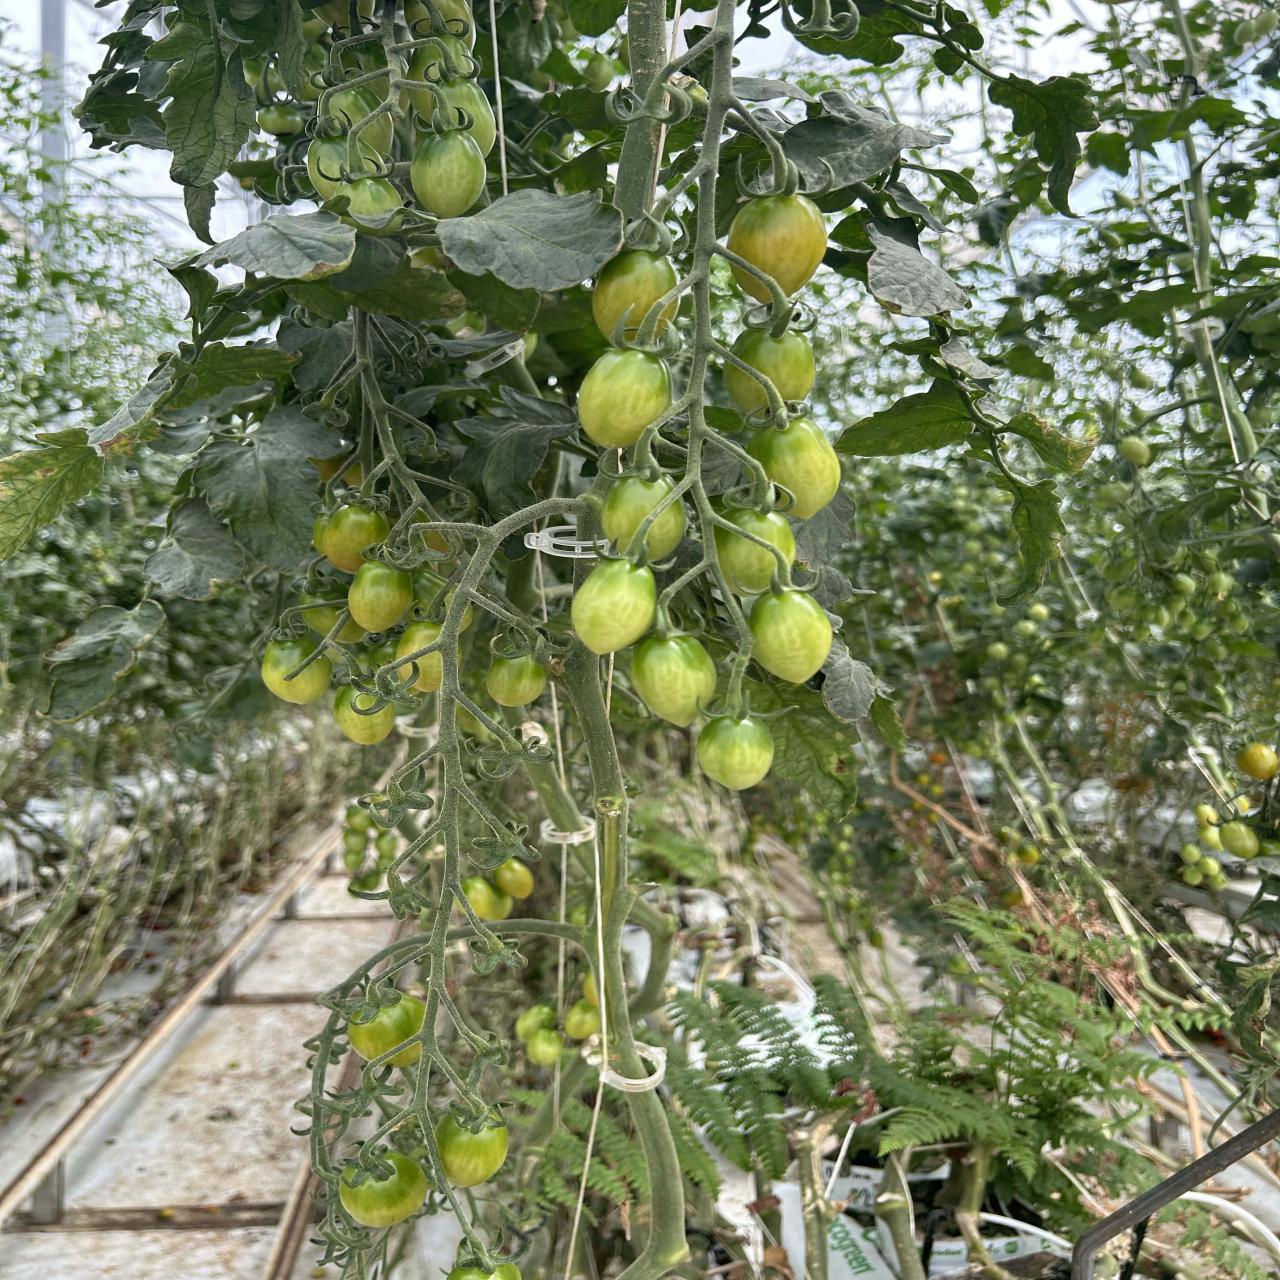Flor rugoso: (462, 790, 538, 870), (359, 756, 433, 828), (470, 736, 553, 779), (354, 667, 428, 715), (469, 925, 527, 974)
Hoja rugoso: (0, 342, 298, 558), (193, 404, 341, 570), (157, 0, 256, 239), (436, 190, 622, 291), (450, 386, 576, 517), (781, 93, 941, 193), (284, 233, 461, 320), (747, 682, 858, 819), (989, 75, 1098, 215), (45, 600, 165, 720), (143, 498, 247, 600), (987, 471, 1065, 605), (199, 212, 355, 279), (838, 380, 973, 456), (217, 0, 311, 100), (867, 225, 968, 318), (76, 69, 169, 149), (891, 336, 1000, 393), (447, 270, 544, 332), (1005, 413, 1097, 472), (822, 634, 880, 722), (278, 322, 352, 392), (795, 492, 855, 567), (792, 561, 853, 614), (887, 181, 945, 231), (170, 266, 218, 325), (438, 331, 517, 360), (870, 695, 905, 753), (926, 169, 979, 204), (108, 30, 154, 66), (137, 61, 173, 98)
Pedunculo: (410, 498, 587, 1110), (682, 0, 749, 660), (560, 646, 647, 1078), (629, 1095, 682, 1280), (613, 117, 665, 220), (628, 0, 666, 95)
Tomate Rugoso: (726, 195, 828, 295), (578, 349, 672, 448), (748, 420, 840, 519), (571, 559, 656, 655), (749, 588, 833, 685), (631, 633, 716, 727), (592, 250, 676, 339), (340, 1152, 428, 1227), (411, 131, 485, 218), (733, 329, 815, 402), (697, 716, 774, 790), (601, 476, 672, 554), (347, 993, 424, 1060), (436, 1118, 509, 1187), (320, 505, 390, 572), (348, 561, 414, 633), (261, 639, 332, 704), (441, 81, 496, 157), (333, 687, 395, 744), (485, 655, 546, 707), (642, 501, 686, 561), (307, 138, 350, 199), (329, 77, 387, 123), (300, 606, 365, 644), (340, 178, 402, 217), (723, 362, 767, 413), (395, 621, 442, 660), (361, 117, 393, 155), (413, 653, 442, 693), (359, 141, 388, 176), (738, 277, 764, 302), (396, 1047, 420, 1065), (400, 669, 410, 680)
